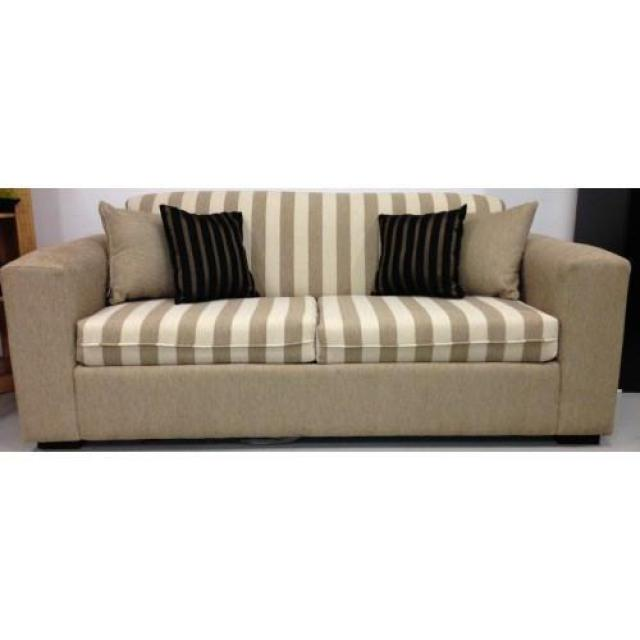sofa: (0, 189, 631, 443)
